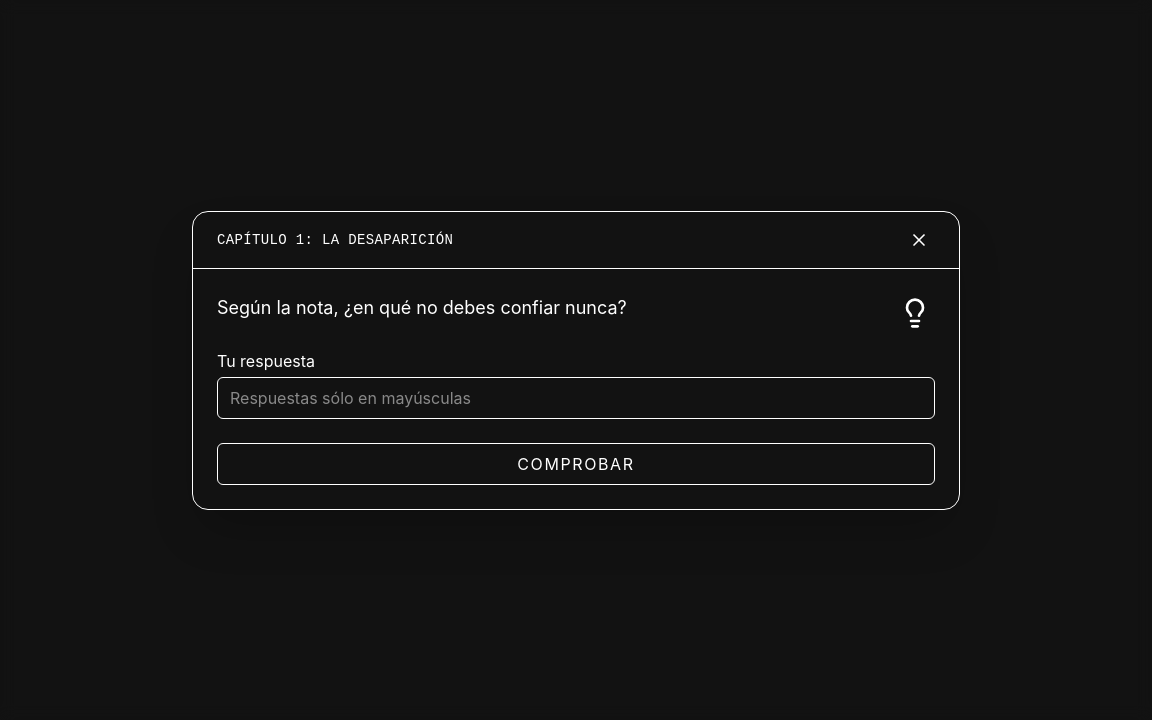
PuzzleWindow › folds the hint again when the same hint is clicked twice
The width and height of the screenshot is (1152, 720).
Click the button named "Pistas" at point(915, 312), box [895,292,935,332]
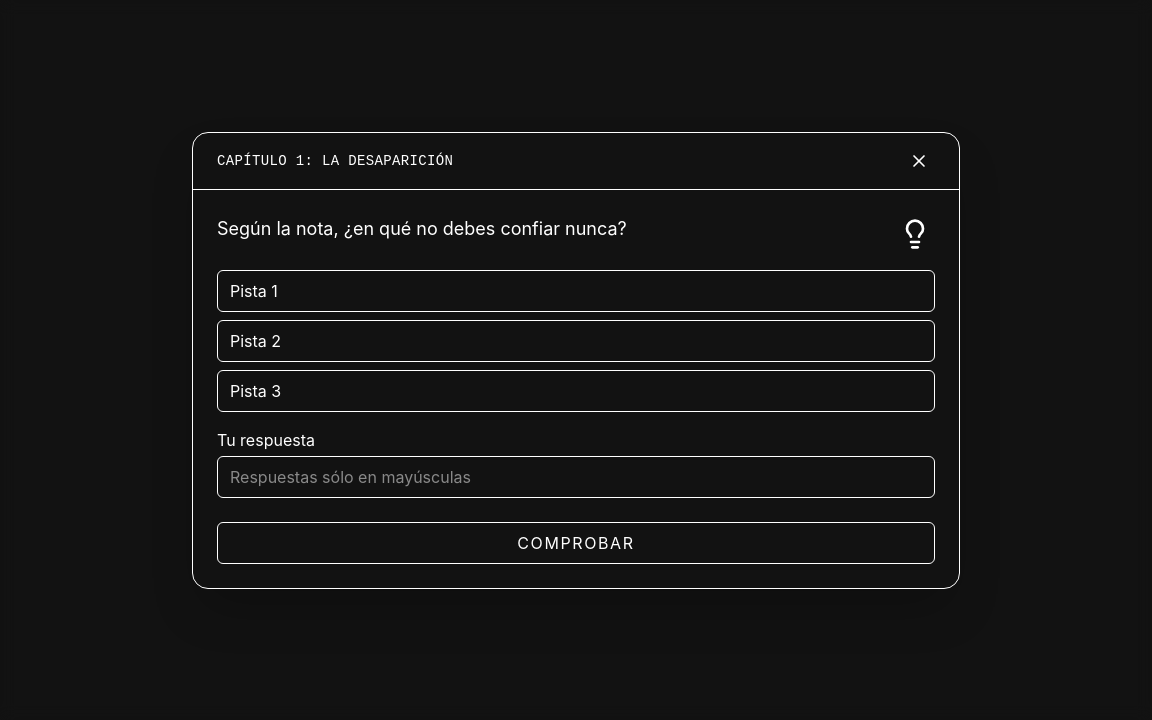
Click the button "Pista 1" at point(254, 290), box [217,270,935,312]
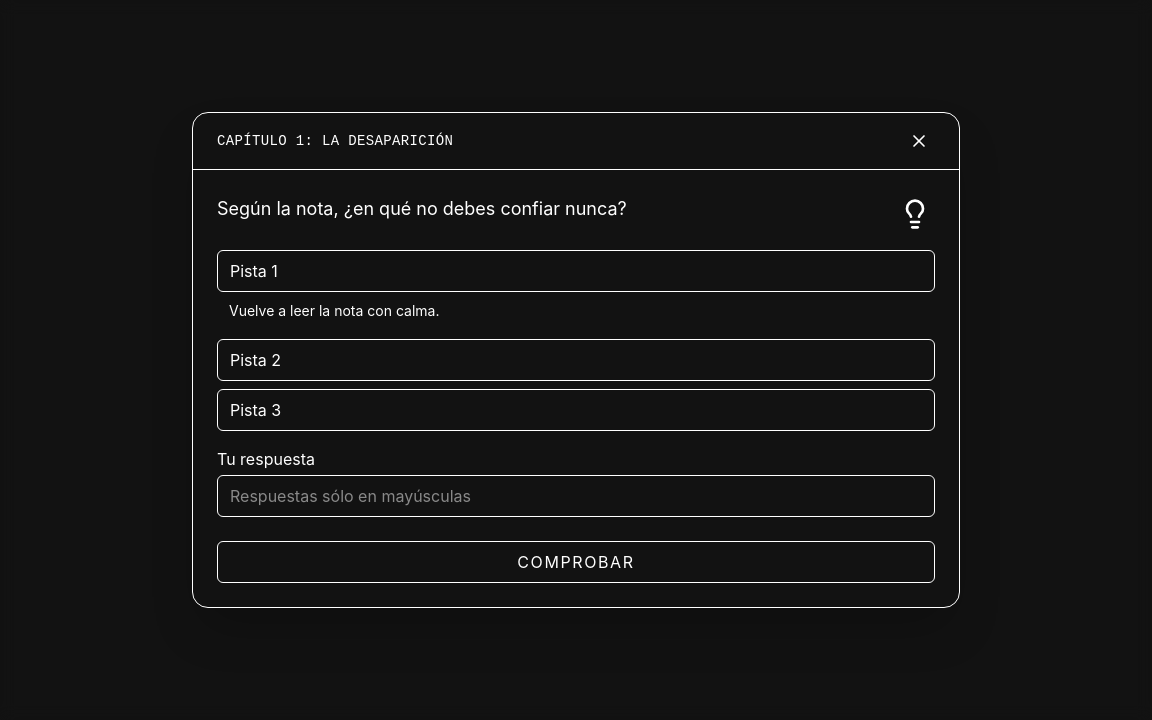
Click the button "Pista 1" at point(254, 271), box [217,250,935,292]
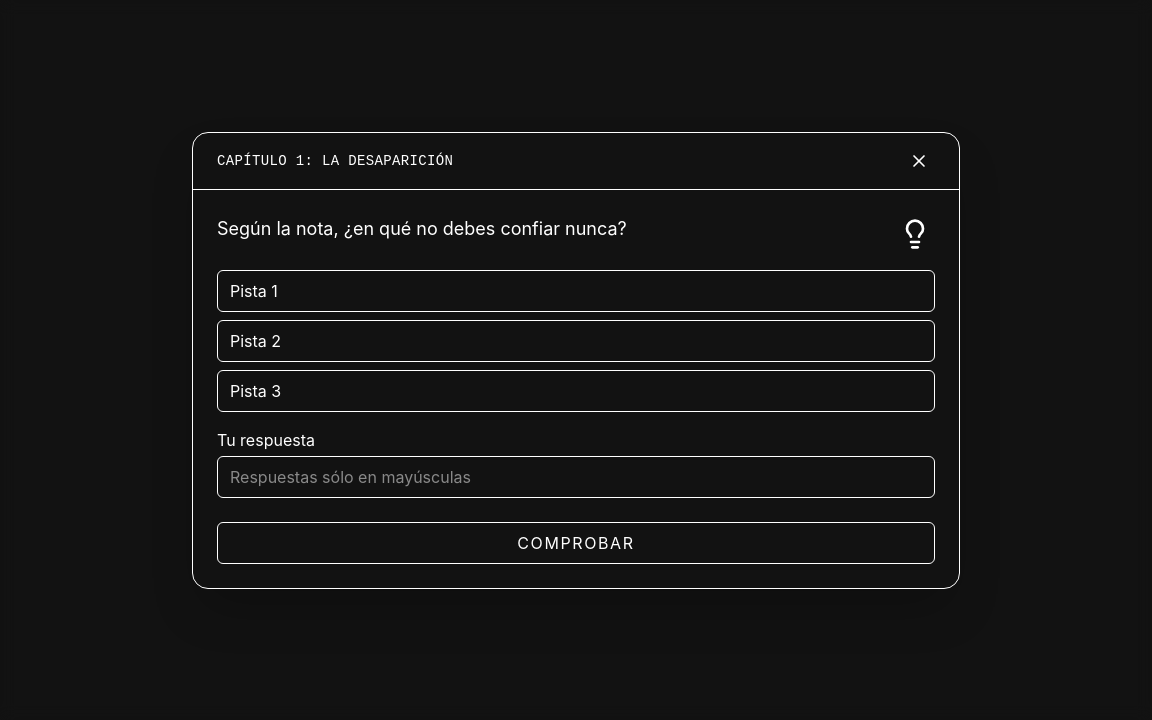
Check: the button "Pista 1" is collapsed, box [217,270,935,312]
Check: the text "Vuelve a leer la nota con calma." is gone
